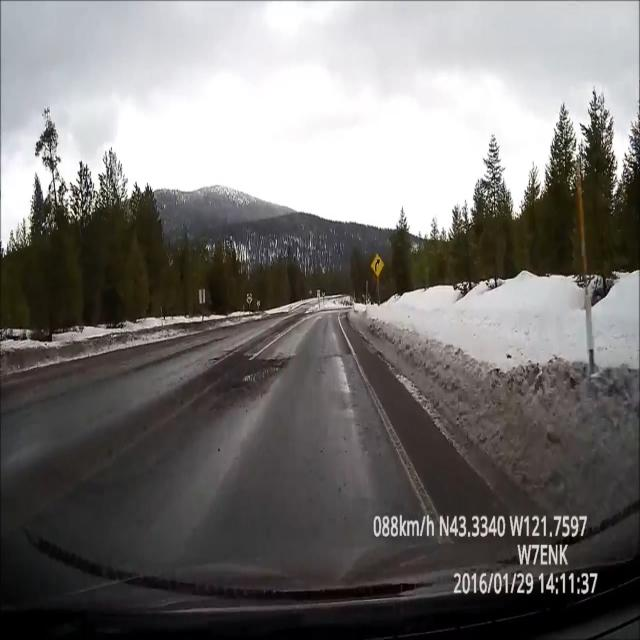Pothole: (219, 342, 288, 396)
